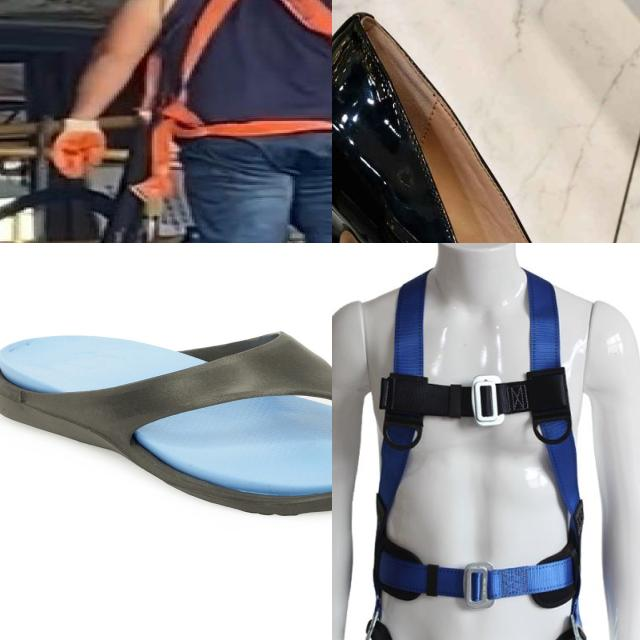Harness: (353, 268, 595, 640), (128, 0, 332, 205)
Sandals: (332, 0, 640, 243), (0, 326, 332, 519)
